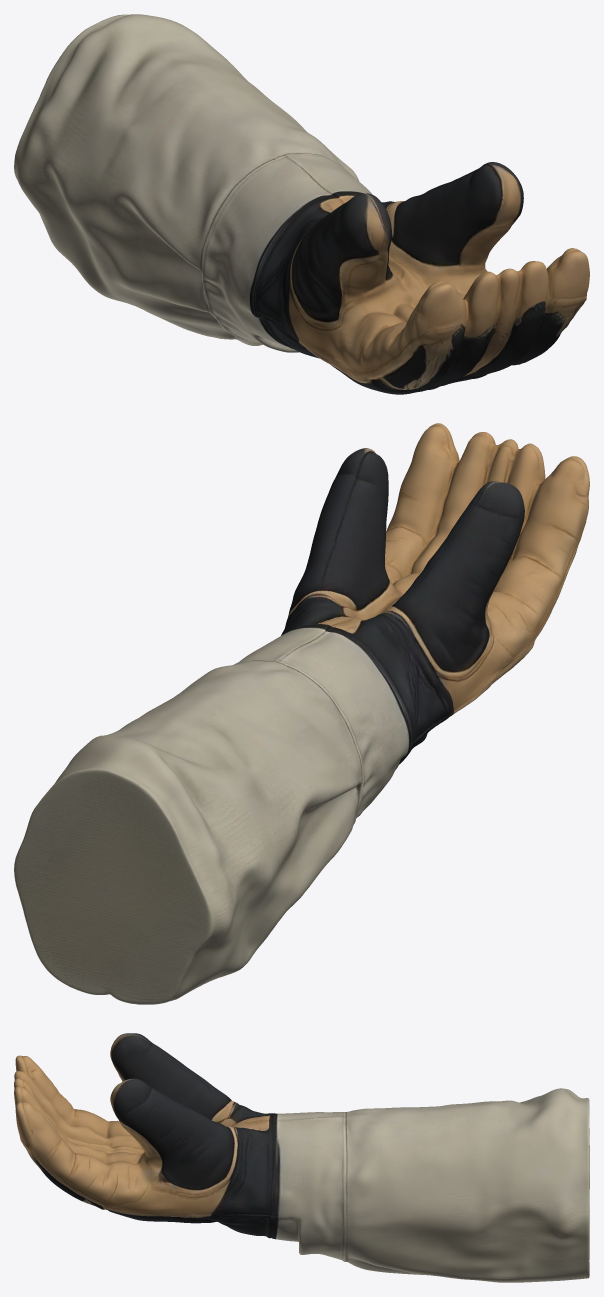
The model's file is handL.glb.
3 views of the same model, one above another, from view 1: azimuth 30°, elevation 25°; view 2: azimuth 150°, elevation 25°; view 3: azimuth 270°, elevation 25° (orthographic). The views are drawn at different scales.
Parts seen in each view (by area): view 1: model; view 2: model; view 3: model.
Part boxes in pixels (bbox=[...]): model: bbox=[14, 14, 589, 394]; model: bbox=[14, 423, 589, 1004]; model: bbox=[14, 1033, 589, 1282].
Bounding box in the file's own units: 0.5636 × 0.7661 × 1.89.
1 material, 1 textured.
